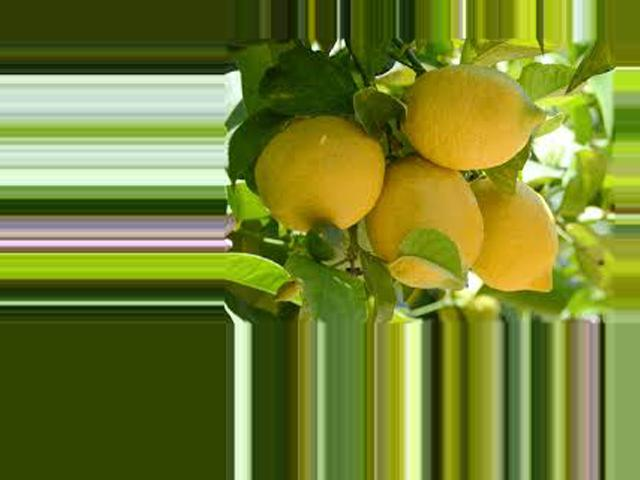lemon: (248, 108, 385, 246)
